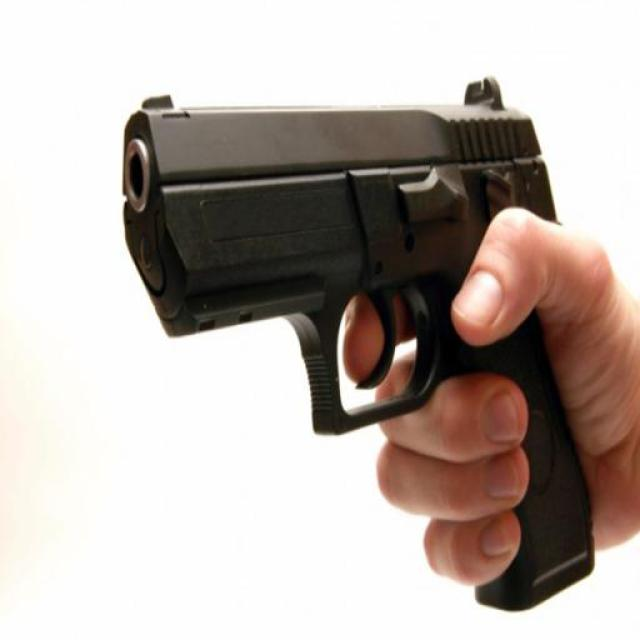pistol: (119, 85, 600, 614)
